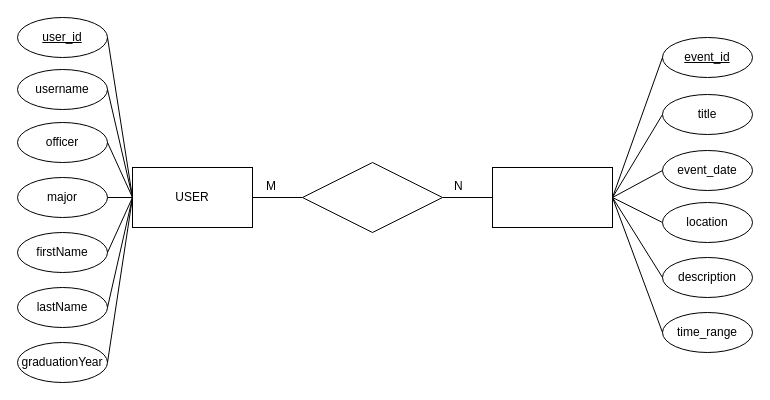
The diagram is 770 pixels wide and 400 high, and some of its shapes have lost their labels. The shapes that lost their labels are listed below. From the top down, each one's centre as x and y in pixels, then its label:
At (372,197): "ATTENDS".
At (552,197): "EVENT".
